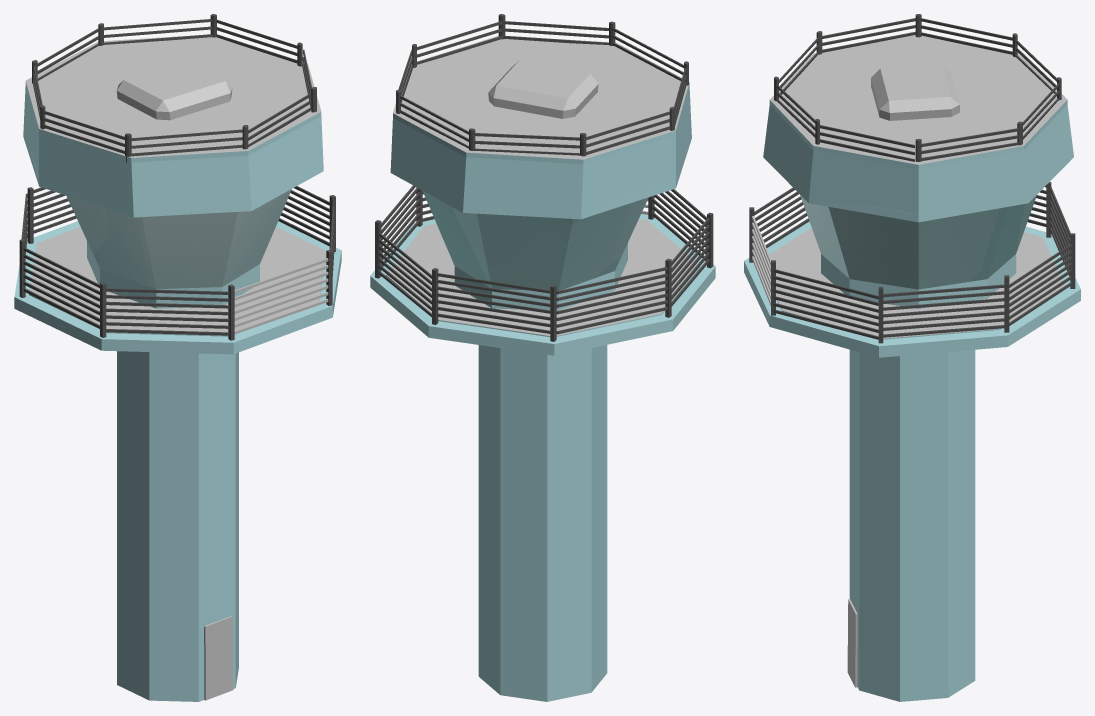
Rendered from tower_ver2.fbx.
3 views of the same model, side by side, from view 1: azimuth 30°, elevation 25°; view 2: azimuth 150°, elevation 25°; view 3: azimuth 270°, elevation 25° (orthographic).
Visible parts, largest first — view 1: Cylinder, Cylinder.001, Cube.020, Cube.006, Cube.007, Cube.004, Plane, Cube.005, Cube.013, Cube.012, Cube.015, Cube.014 (+5 smaller); view 2: Cylinder, Cylinder.001, Cube.020, Cube.008, Cube.011, Cube.009, Cube.004, Cube.006, Cube.005, Cube.018, Cube.019, Cube.016 (+5 smaller); view 3: Cylinder, Cylinder.001, Cube.020, Cube.005, Cube.010, Cube.009, Cube.006, Cube.015, Cube.016, Cube.014, Cube.017, Cube.007 (+6 smaller).
Boxes of the visible parts, x1,y1,x2,y2 form: Cylinder: (14, 221, 341, 701); Cylinder.001: (23, 35, 323, 308); Cube.020: (116, 60, 232, 120); Cube.006: (106, 288, 229, 335); Cube.007: (234, 258, 328, 334); Cube.004: (23, 247, 99, 328); Plane: (204, 616, 233, 700); Cube.005: (278, 186, 330, 246); Cube.013: (131, 129, 242, 156); Cube.012: (103, 19, 212, 44); Cube.015: (216, 19, 297, 63); Cube.014: (43, 111, 124, 153); Cylinder: (370, 214, 715, 701); Cylinder.001: (390, 35, 691, 310); Cube.020: (488, 60, 598, 118); Cube.008: (437, 273, 552, 334); Cube.011: (556, 267, 667, 334); Cube.009: (379, 232, 431, 317); Cube.004: (671, 218, 709, 306); Cube.006: (652, 189, 706, 260); Cube.005: (381, 185, 420, 266); Cube.018: (502, 21, 608, 44); Cube.019: (474, 133, 580, 155); Cube.016: (417, 21, 502, 64); Cylinder: (744, 221, 1080, 701); Cylinder.001: (763, 35, 1073, 308); Cube.020: (871, 64, 959, 120); Cube.005: (883, 284, 1004, 337); Cube.010: (773, 269, 878, 339); Cube.009: (1009, 244, 1072, 325); Cube.006: (754, 187, 809, 247); Cube.015: (920, 128, 1022, 161); Cube.016: (820, 125, 914, 161); Cube.014: (822, 18, 915, 52); Cube.017: (920, 18, 1012, 54); Cube.007: (752, 216, 771, 305).
Size of the model in its own units: 525 by 1029 by 525.
